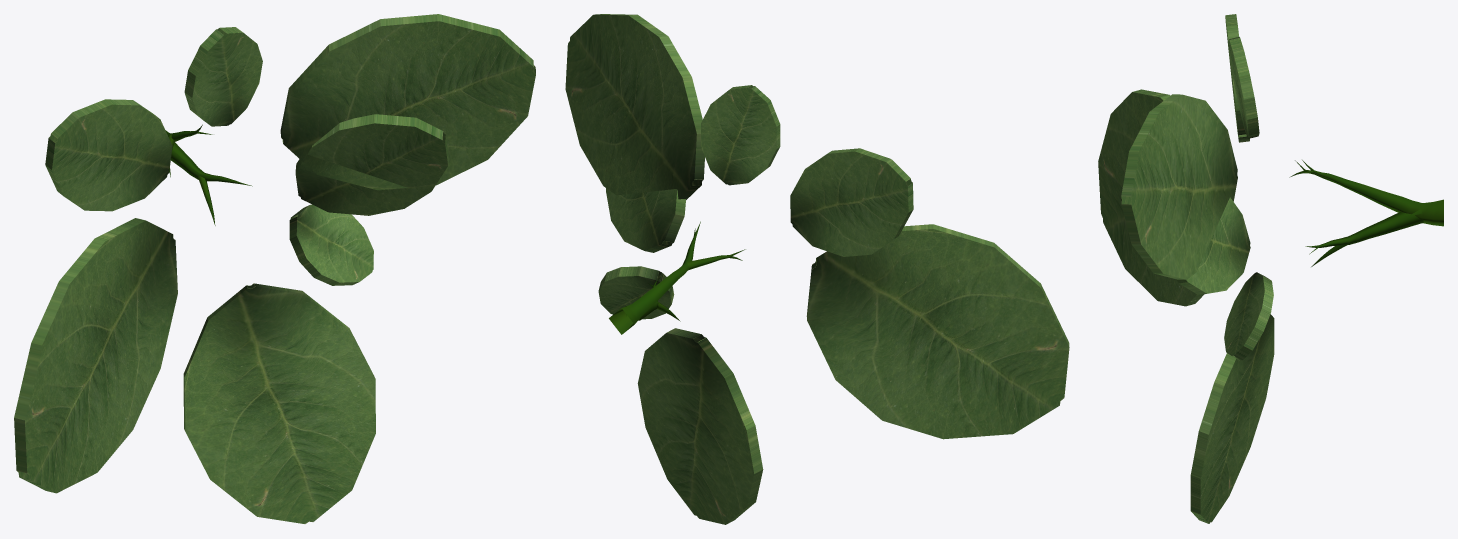
Rendered from plant1.obj.
The picture shows the model from 3 angles, left to right: view 1: azimuth 30°, elevation 25°; view 2: azimuth 150°, elevation 25°; view 3: azimuth 270°, elevation 25°; orthographic projection. The views are drawn at different scales.
Visible parts, largest first — view 1: leaves.011, tree.011; view 2: leaves.011, tree.011; view 3: leaves.011, tree.011.
Part boxes in pixels (<box>): leaves.011: <box>14,14,535,523</box>; tree.011: <box>165,124,252,225</box>; leaves.011: <box>565,14,1069,524</box>; tree.011: <box>609,221,745,334</box>; leaves.011: <box>1098,14,1274,523</box>; tree.011: <box>1289,160,1443,266</box>.
Bounding box in the file's own units: 0.1125 × 0.1012 × 0.0692.
Materials: 2 (2 with a texture image).
